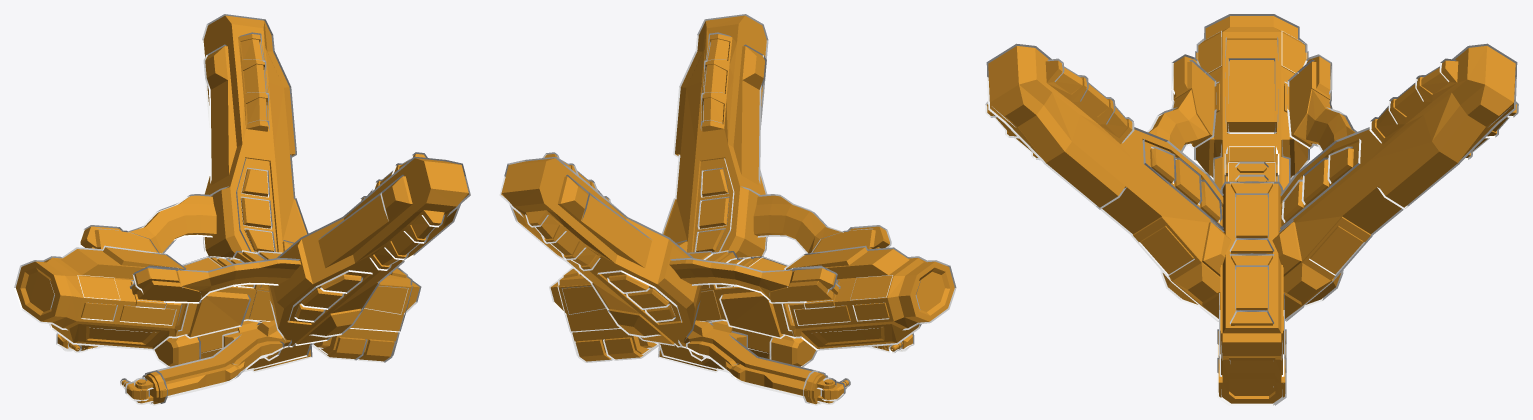
Rendered from ship6_orange.glb.
The picture shows the model from 3 angles, left to right: view 1: azimuth 30°, elevation 25°; view 2: azimuth 150°, elevation 25°; view 3: azimuth 270°, elevation 25°; orthographic projection. The views are drawn at different scales.
Visible parts, largest first — view 1: ME_ship_IndexedFaceSet; view 2: ME_ship_IndexedFaceSet; view 3: ME_ship_IndexedFaceSet.
Boxes of the visible parts, box(x1,y1,x2,y2) form: ME_ship_IndexedFaceSet: box(14, 14, 470, 405); ME_ship_IndexedFaceSet: box(499, 14, 956, 405); ME_ship_IndexedFaceSet: box(985, 14, 1518, 405).
Bounding box in the file's own units: 484 × 344 × 500.
